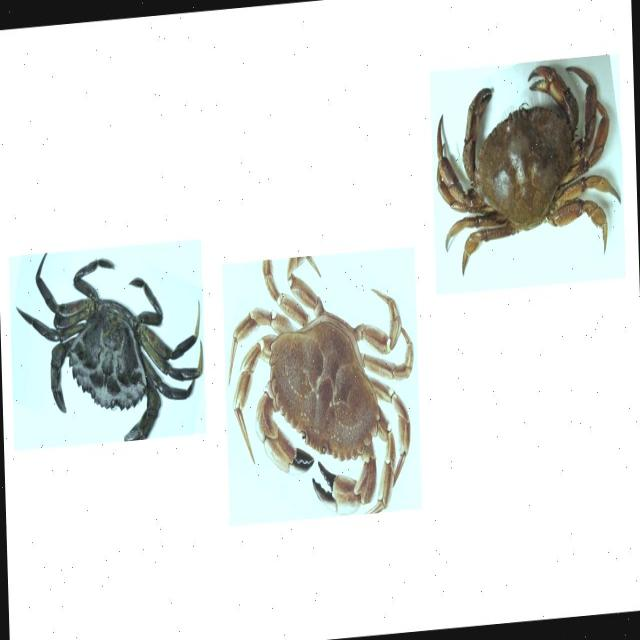egc: (15, 250, 204, 442)
